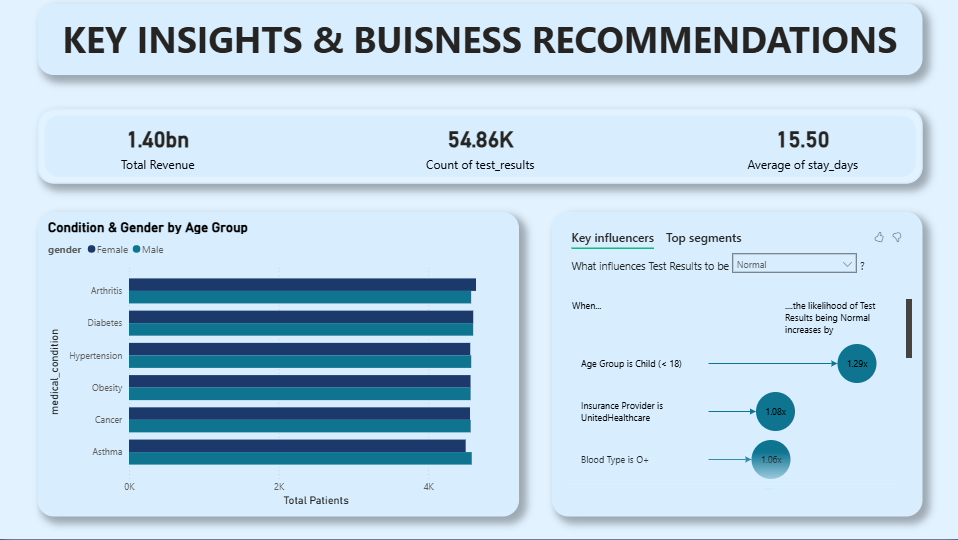

What the dashboard file says about the page in this screenshot:
{"tool":"powerbi","page":{"name":"Page 6","canvas":[1280,720],"ordinal":5},"visuals":[{"type":"shape","box":[50,146,1180,100],"z":0},{"type":"clusteredBarChart","title":"Condition & Gender by Age Group","fields":{"Category":["healthcare_final_clean.medical_condition"],"Y":["healthcare_final_clean.Total Patients"],"Series":["healthcare_final_clean.gender"]},"box":[50,284,642,406],"z":1000},{"type":"textbox","box":[50,5,1180,95],"z":2000},{"type":"card","fields":{"Values":["Avg(healthcare_final_clean.stay_days)"]},"box":[910,146,320,100],"z":3000},{"type":"card","fields":{"Values":["CountNonNull(healthcare_final_clean.test_results)"]},"box":[480,146,320,100],"z":4000},{"type":"card","fields":{"Values":["healthcare_final_clean.Total Revenue"]},"box":[50,146,320,100],"z":5000},{"type":"keyDriversVisual","title":"Condition & Gender by Age Group","fields":{"ExplainBy":["healthcare_final_clean.medical_condition","healthcare_final_clean.admission_type","healthcare_final_clean.insurance_provider","healthcare_final_clean.age_group","Sum(healthcare_final_clean.stay_days)","healthcare_final_clean.medication","healthcare_final_clean.gender","healthcare_final_clean.blood_type"],"Target":["healthcare_final_clean.test_results"]},"box":[736,284,494,406],"z":6000}]}

Visuals, with their boxes in screenshot pixels (x1, y1, x2, y2), scaled from the page's 1280x720 canvas onto the 958x540 screenshot:
shape: 37,110,921,184
"Condition & Gender by Age Group" clusteredBarChart: 37,213,518,518
textbox: 37,4,921,75
card - Avg(healthcare_final_clean.stay_days): 681,110,921,184
card - CountNonNull(healthcare_final_clean.test_results): 359,110,599,184
card - healthcare_final_clean.Total Revenue: 37,110,277,184
"Condition & Gender by Age Group" keyDriversVisual: 551,213,921,518
